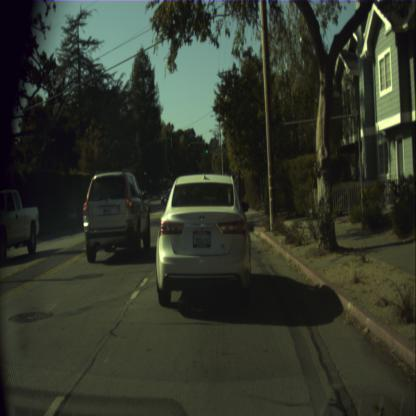Green: (205, 144, 208, 154)
Red: (187, 142, 190, 152), (144, 170, 146, 178)
